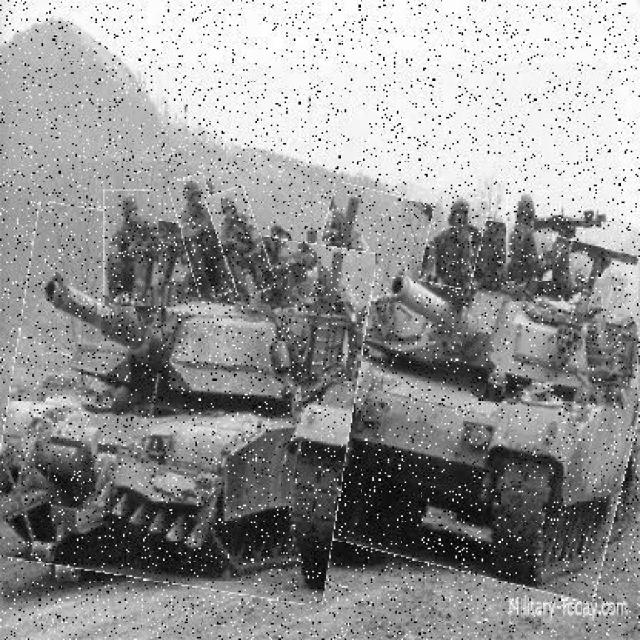Person: (104, 190, 161, 309), (178, 175, 230, 299), (215, 188, 272, 297), (426, 192, 487, 290), (509, 192, 555, 283)
Tank: (272, 201, 639, 586), (1, 215, 366, 596)
